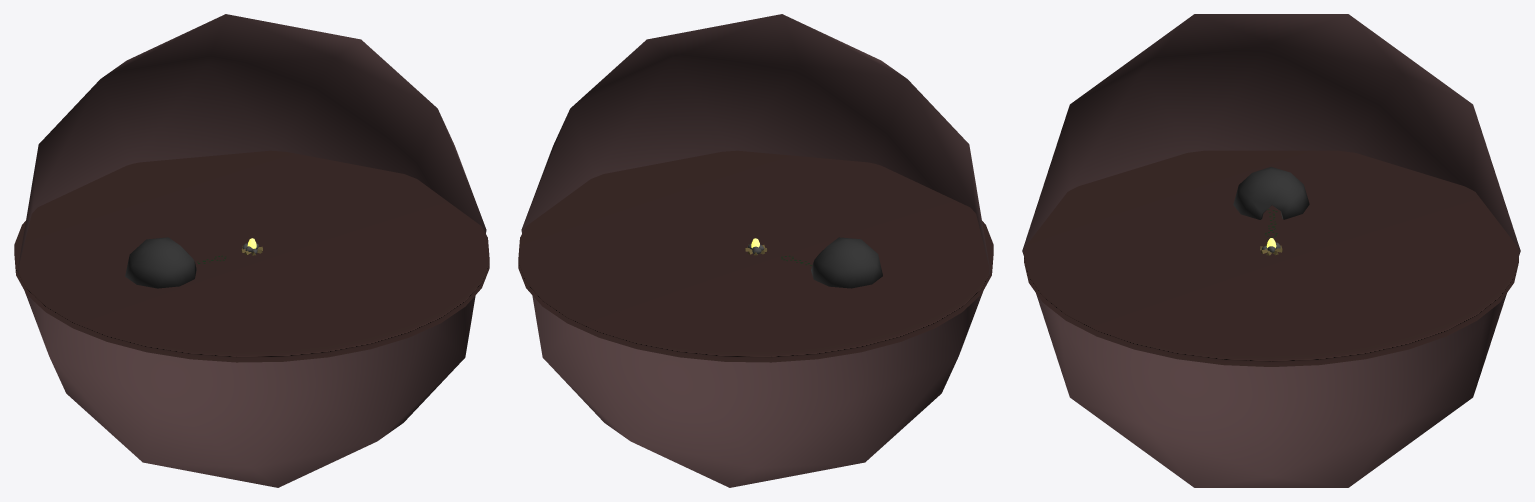
3 views of the same model, side by side, from view 1: azimuth 30°, elevation 25°; view 2: azimuth 150°, elevation 25°; view 3: azimuth 270°, elevation 25° (orthographic). The views are drawn at different scales.
Visible parts, largest first — view 1: envirosphere.005, ground.007, lodge.005; view 2: envirosphere.005, ground.007, lodge.005; view 3: envirosphere.005, ground.007, lodge.005.
Boxes of the visible parts, x1,y1,x2,y2 form: envirosphere.005: (17, 14, 486, 487); ground.007: (14, 150, 489, 362); lodge.005: (125, 237, 196, 288); envirosphere.005: (521, 14, 990, 487); ground.007: (518, 150, 993, 362); lodge.005: (811, 237, 882, 288); envirosphere.005: (1022, 14, 1520, 487); ground.007: (1024, 150, 1518, 366); lodge.005: (1233, 167, 1309, 219).
Size of the model in its own units: 13.58 by 13.69 by 13.69.
